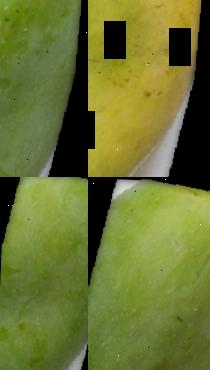PartiallyRipe: (88, 0, 210, 177)
Unripe: (88, 177, 210, 370), (0, 177, 88, 370), (0, 0, 88, 177)
